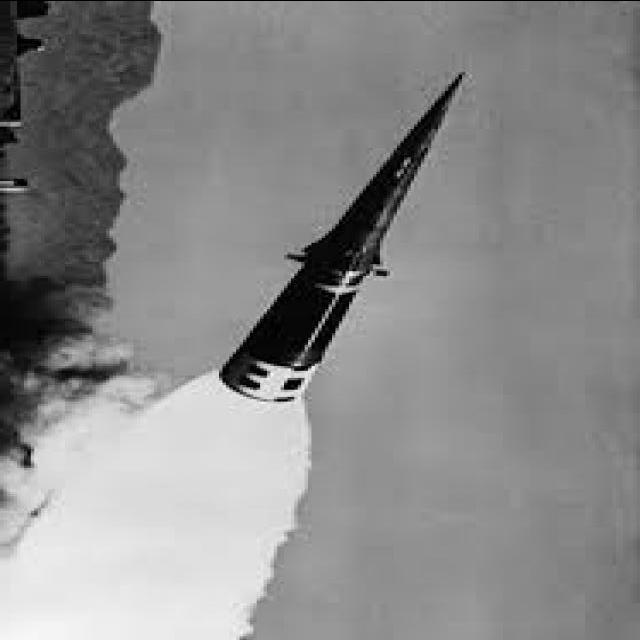Missile: (213, 61, 473, 415)
